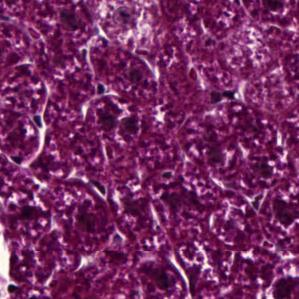inflammation: (79, 81, 145, 136), (138, 259, 180, 293), (263, 195, 299, 232), (263, 266, 299, 299), (206, 85, 239, 109)
